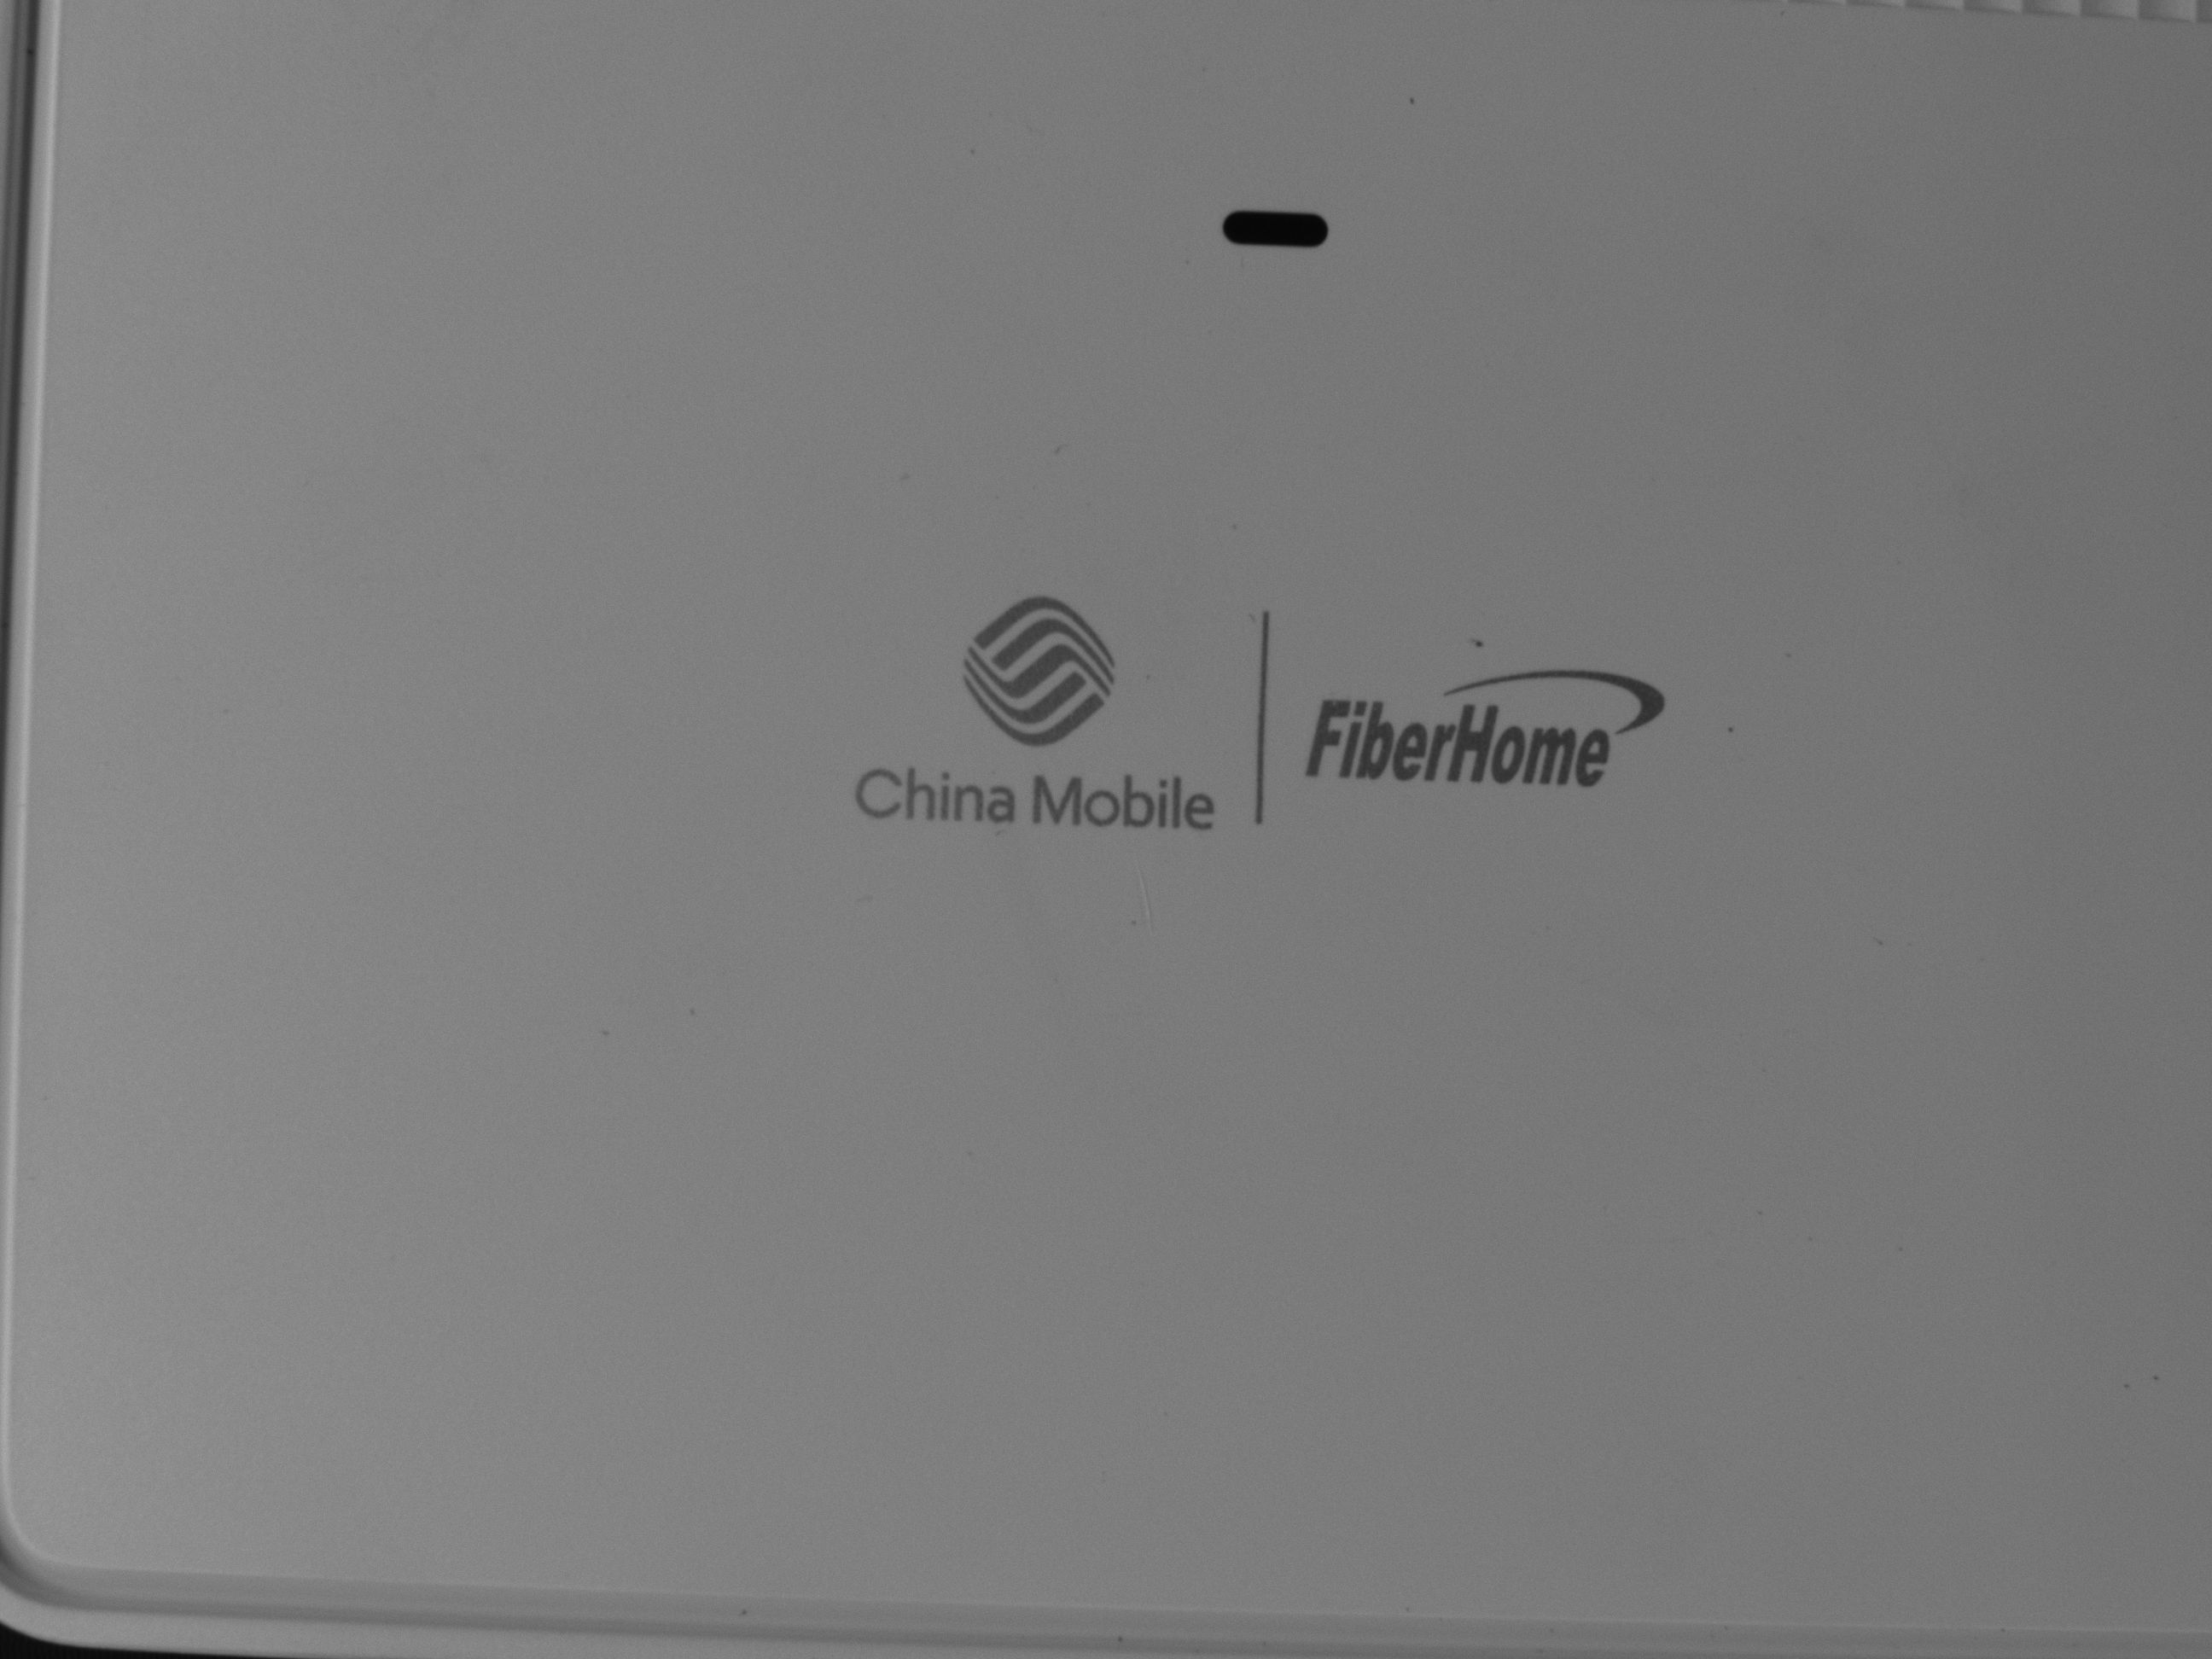BX_HG6371FMobileFiberhome: (808, 551, 1672, 838)
